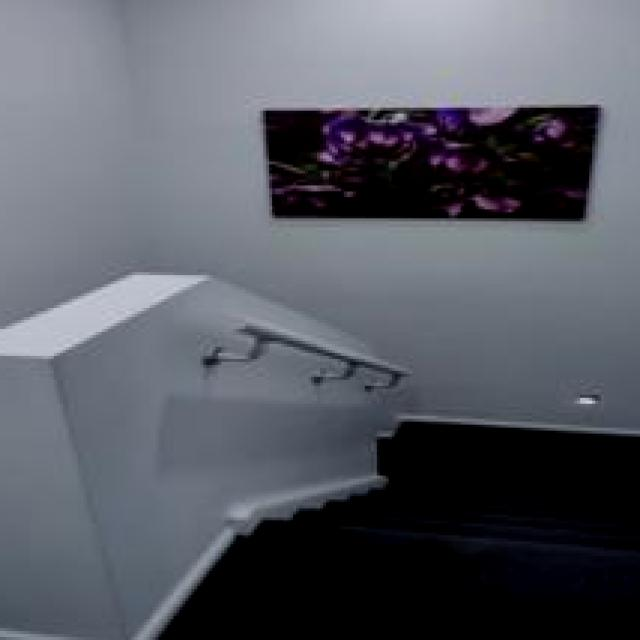downstair: (240, 405, 596, 614)
